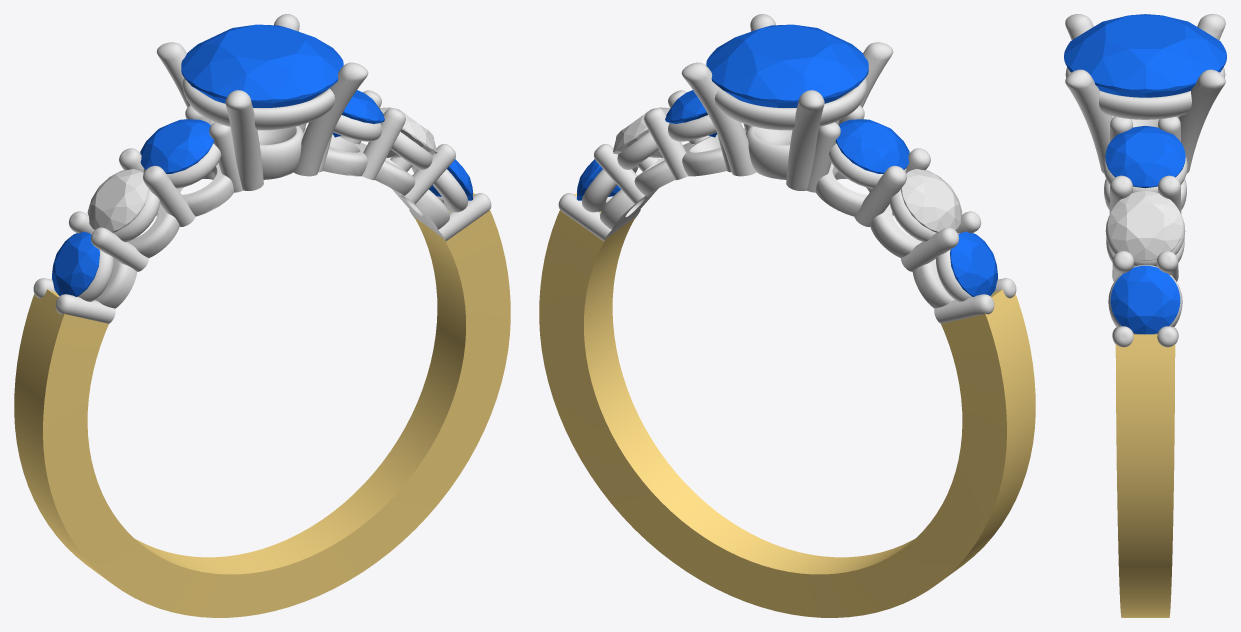
Rendered from Sarah_O_Hal_alternating_7_stone_blender.glb.
The picture shows the model from 3 angles, left to right: view 1: azimuth 30°, elevation 25°; view 2: azimuth 150°, elevation 25°; view 3: azimuth 270°, elevation 25°; orthographic projection.
Visible parts, largest first — view 1: v2 alternating YG for 3d model, v2 alternating PT for 3d model, v2 alternating sapph for 3d model.004, v2 alternating sapph for 3d model.002, v2 alternating dia for 3d model.001, v2 alternating sapph for 3d model.003, v2 alternating sapph for 3d model, v2 alternating dia for 3d model; view 2: v2 alternating YG for 3d model, v2 alternating PT for 3d model, v2 alternating sapph for 3d model.004, v2 alternating sapph for 3d model.002, v2 alternating dia for 3d model.001, v2 alternating sapph for 3d model.003, v2 alternating sapph for 3d model, v2 alternating dia for 3d model; view 3: v2 alternating YG for 3d model, v2 alternating PT for 3d model, v2 alternating sapph for 3d model.004, v2 alternating dia for 3d model, v2 alternating sapph for 3d model.001, v2 alternating sapph for 3d model.
Boxes of the visible parts, x1,y1,x2,y2 form: v2 alternating YG for 3d model: [14, 193, 510, 617]; v2 alternating PT for 3d model: [33, 14, 491, 323]; v2 alternating sapph for 3d model.004: [181, 24, 343, 107]; v2 alternating sapph for 3d model.002: [140, 119, 214, 173]; v2 alternating dia for 3d model.001: [87, 169, 148, 232]; v2 alternating sapph for 3d model.003: [52, 231, 99, 296]; v2 alternating sapph for 3d model: [332, 90, 384, 137]; v2 alternating dia for 3d model: [379, 107, 436, 157]; v2 alternating YG for 3d model: [539, 193, 1035, 617]; v2 alternating PT for 3d model: [558, 14, 1016, 323]; v2 alternating sapph for 3d model.004: [706, 24, 868, 107]; v2 alternating sapph for 3d model.002: [835, 119, 909, 173]; v2 alternating dia for 3d model.001: [901, 169, 962, 232]; v2 alternating sapph for 3d model.003: [950, 231, 997, 296]; v2 alternating sapph for 3d model: [665, 90, 717, 137]; v2 alternating dia for 3d model: [613, 107, 670, 157]; v2 alternating YG for 3d model: [1115, 334, 1175, 617]; v2 alternating PT for 3d model: [1065, 14, 1225, 347]; v2 alternating sapph for 3d model.004: [1064, 14, 1226, 97]; v2 alternating dia for 3d model: [1108, 191, 1182, 260]; v2 alternating sapph for 3d model.001: [1110, 265, 1180, 334]; v2 alternating sapph for 3d model: [1105, 125, 1185, 188].
Bounding box in the file's own units: 20.92 × 23.93 × 6.3.
